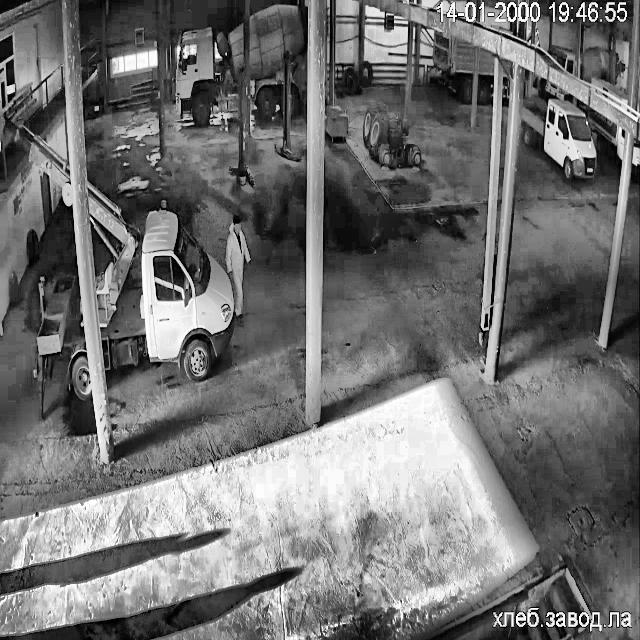car lift: (275, 52, 300, 161)
mechanic: (226, 217, 250, 324)
truck: (88, 183, 233, 380), (176, 24, 244, 124), (37, 277, 92, 397), (248, 4, 306, 117), (0, 116, 72, 204), (521, 98, 596, 179), (432, 30, 476, 102), (589, 109, 624, 156), (478, 48, 494, 101), (548, 45, 576, 74), (592, 78, 626, 101), (538, 77, 565, 99), (632, 140, 640, 166), (504, 60, 510, 73), (40, 396, 42, 413), (636, 102, 640, 108), (500, 86, 504, 90)
